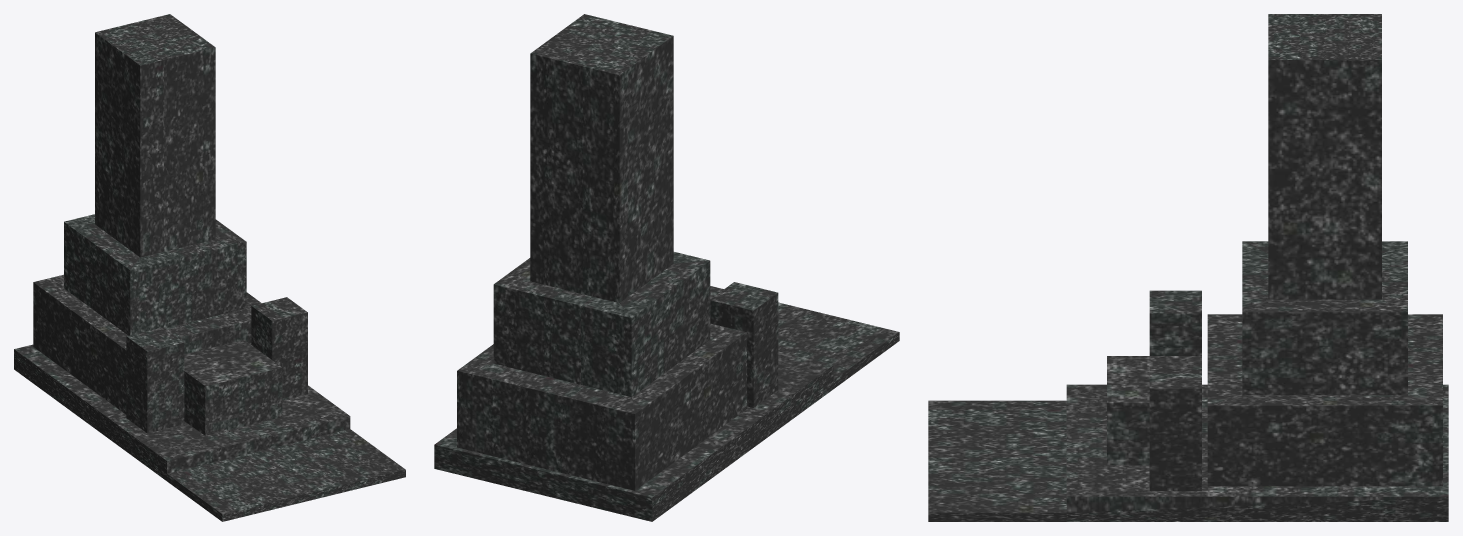
File: grave_main.fbx
The picture shows the model from 3 angles, left to right: view 1: azimuth 30°, elevation 25°; view 2: azimuth 150°, elevation 25°; view 3: azimuth 270°, elevation 25°; orthographic projection. The views are drawn at different scales.
Visible parts, largest first — view 1: grave_main; view 2: grave_main; view 3: grave_main.
Boxes of the visible parts, <box> form: grave_main: <box>14,14,405,521</box>; grave_main: <box>434,14,899,521</box>; grave_main: <box>928,14,1448,521</box>.
Bounding box in the file's own units: 0.7533 × 1.35 × 1.48.
